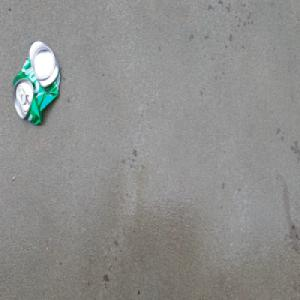SodaCan: (11, 38, 62, 128)
